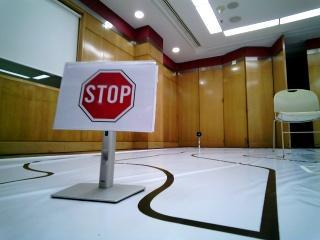stop: (67, 66, 140, 128)
